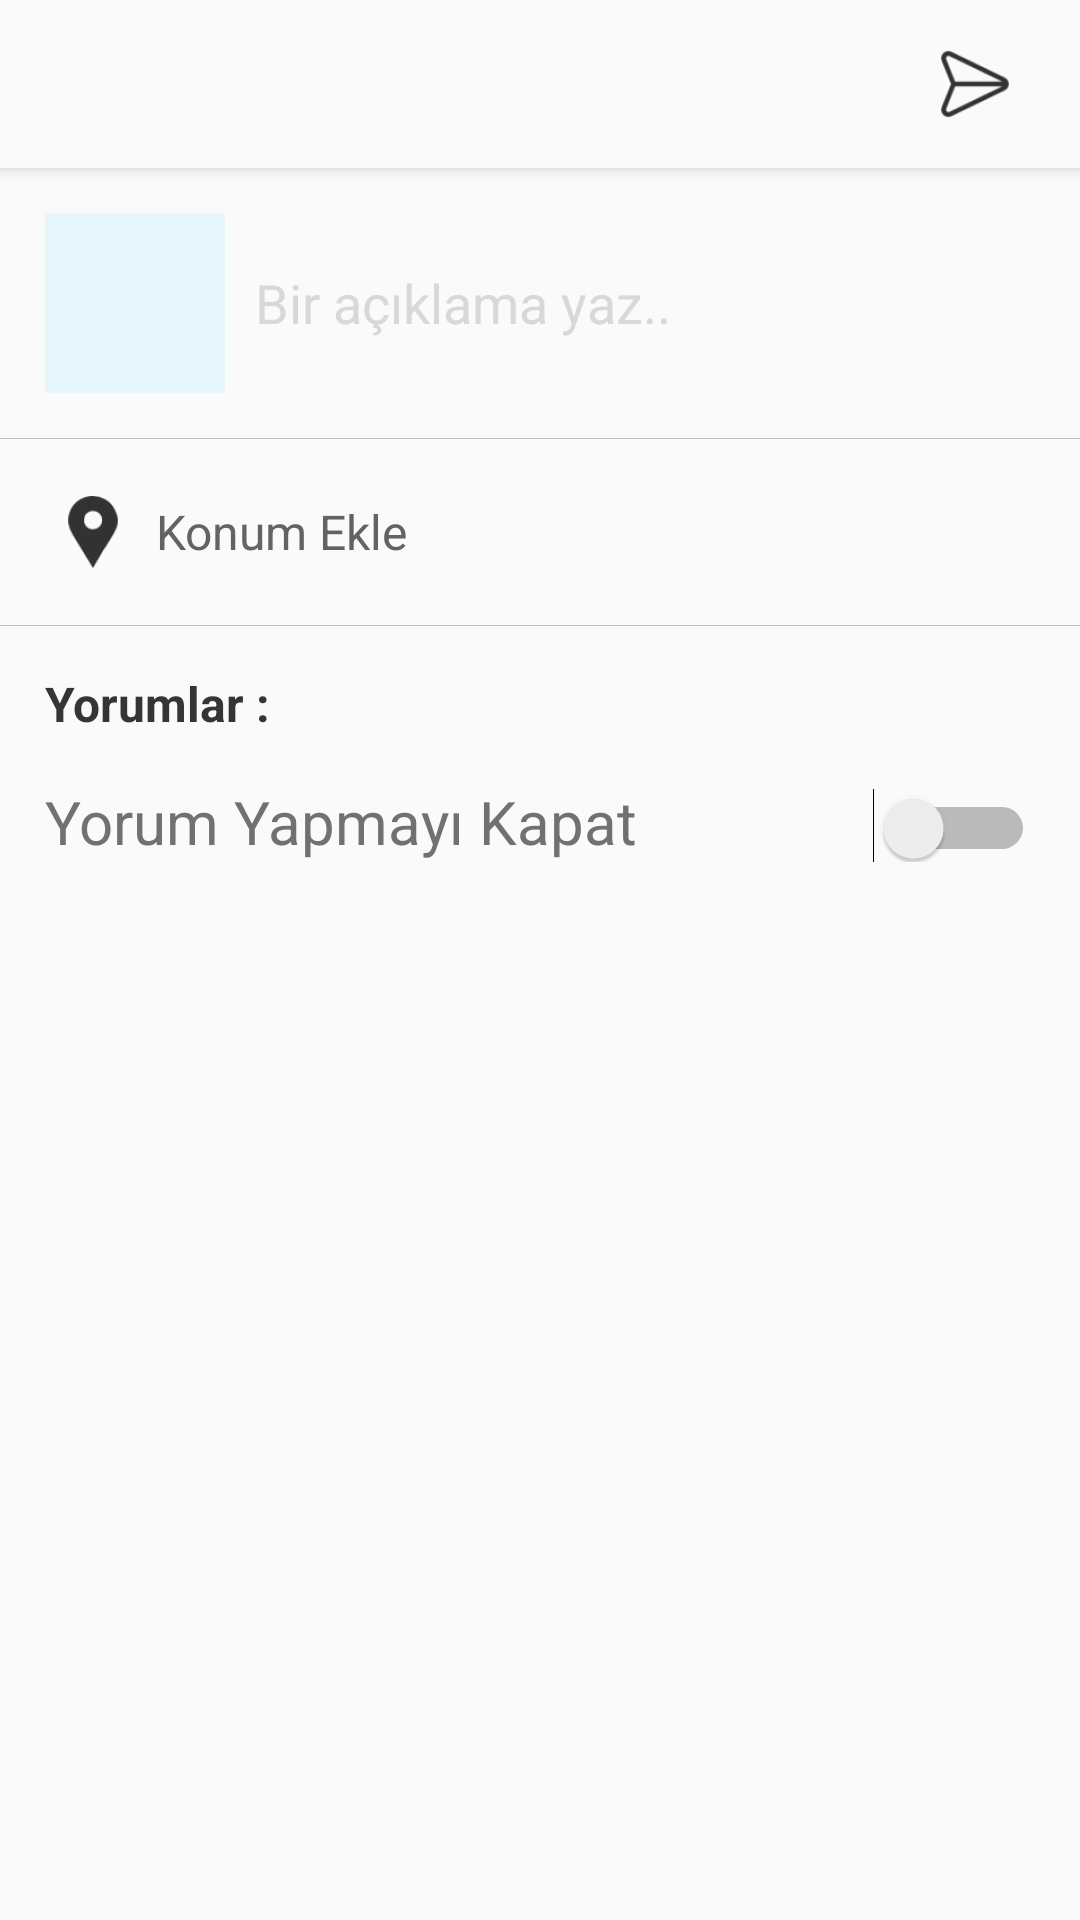

Screen size 1080px x 1920px. Icon name, then its box in pixels as bbox(x1, y1, x2, y2):
send: bbox(941, 51, 1009, 117)
